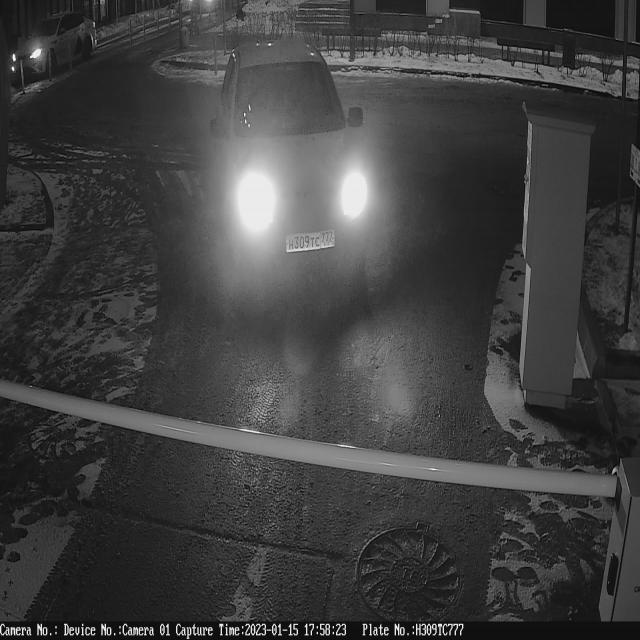car-plate-numbers: (286, 228, 340, 258)
